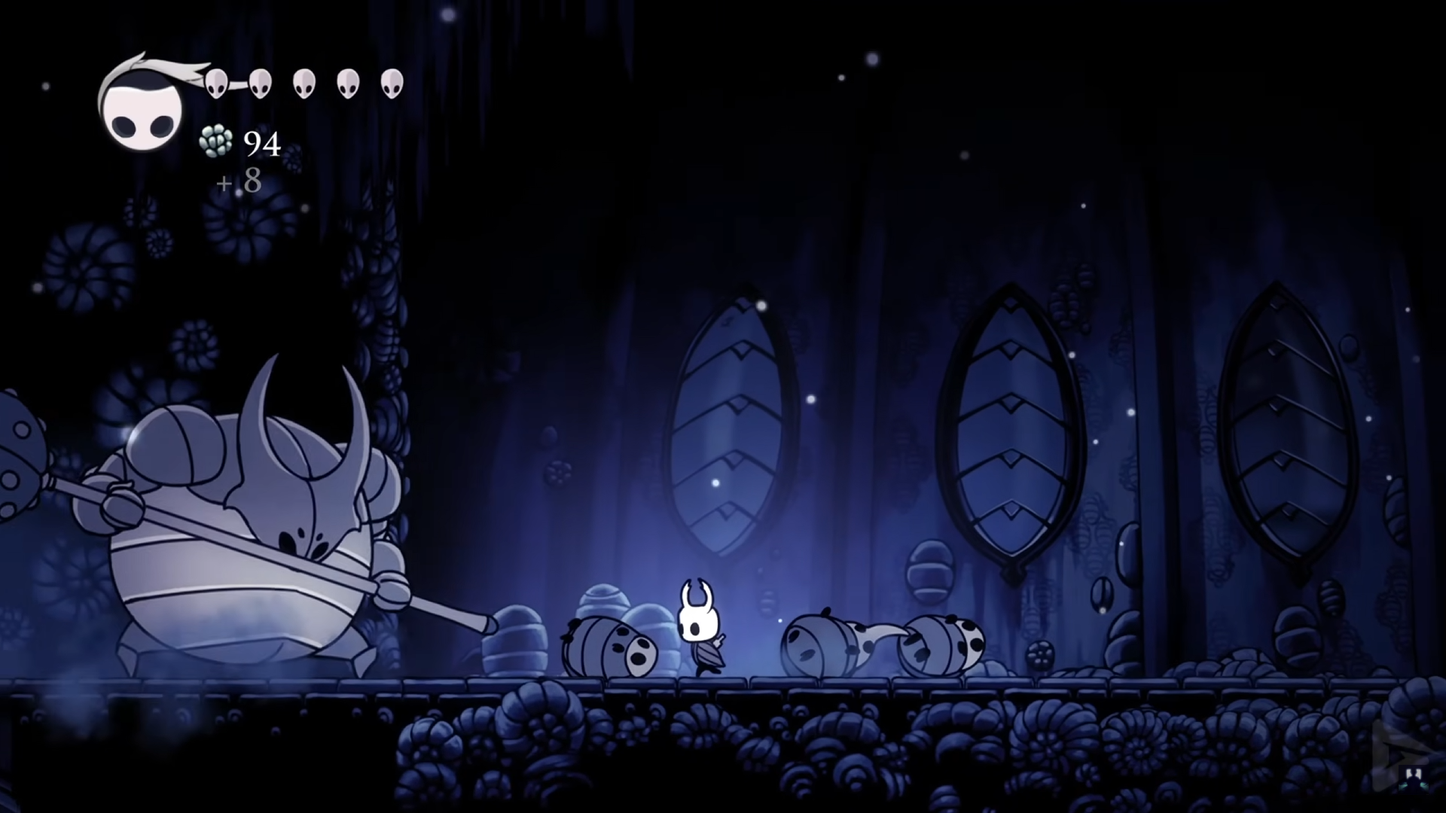HK: (668, 574, 730, 678)
